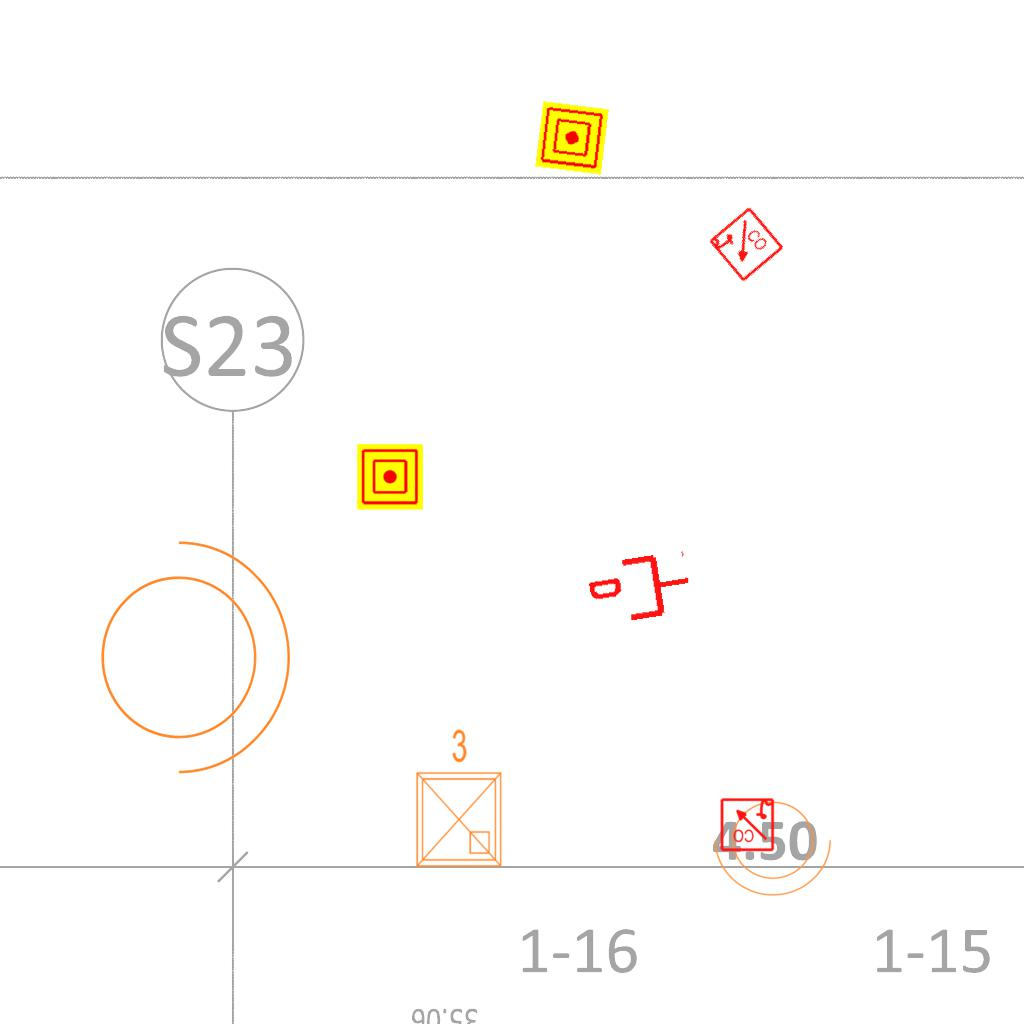Datenanschluss_einfach: (585, 546, 696, 630)
Einbaudownlights_LED_Konferenzraeume: (405, 724, 509, 874)
NAM-Nichtautomatischer_Melder: (535, 101, 609, 175), (357, 444, 423, 510)
ROA_Rauchmelder_optisch_mit_Signalgeber_(Sockelsirene): (706, 205, 786, 285), (719, 796, 775, 852)
Scheinwerfer_fuer_Alarmbeleuchtung: (76, 519, 301, 783), (710, 789, 842, 901)
